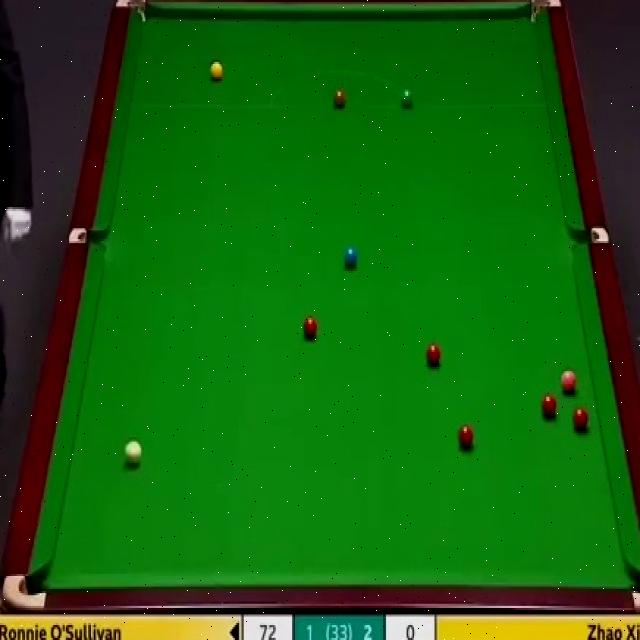blue-ball: (344, 246, 358, 270)
brown-ball: (334, 90, 346, 109)
green-ball: (401, 88, 413, 109)
pink-ball: (561, 368, 578, 395)
red-ball: (456, 424, 475, 450), (426, 340, 442, 367), (541, 395, 557, 417), (574, 409, 588, 432), (304, 316, 317, 340)
white-ball: (122, 440, 142, 469)
yellow-ball: (209, 61, 225, 84)
